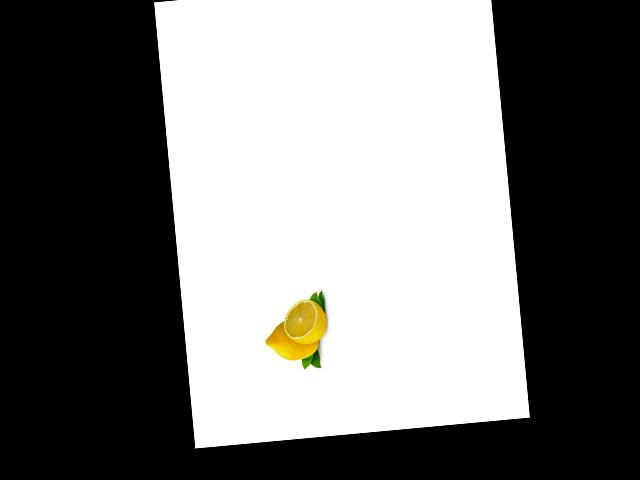lemon: (262, 316, 326, 367)
